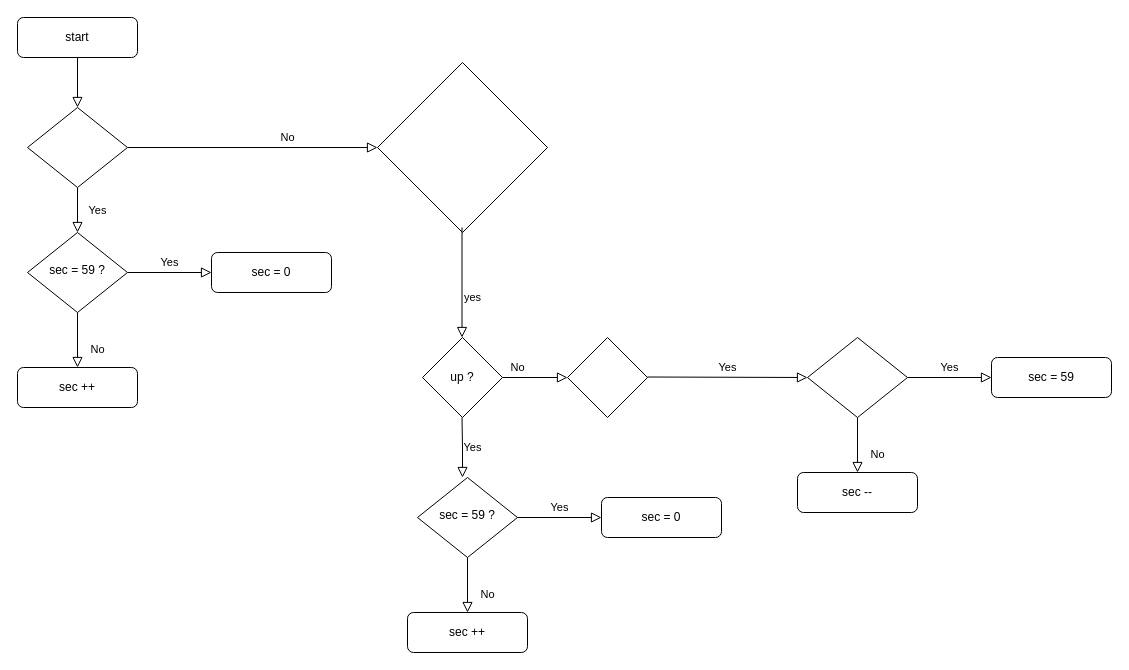
Some shapes in this 1129 by 670 pixel diagram are drawn without their labels. The box of each missing label's shape, as (x1, y1, x2, y2) in pixels:
down ?: (566, 336, 648, 418)
en_5hz && mode = 01 ? (mode chỉnh giây và dùng xung 5 gấp 5 lần): (376, 62, 548, 232)
sec = 0 ?: (806, 336, 908, 418)
sec_en (thực hiện 1 lần trong 50Mhz): (26, 106, 128, 188)
